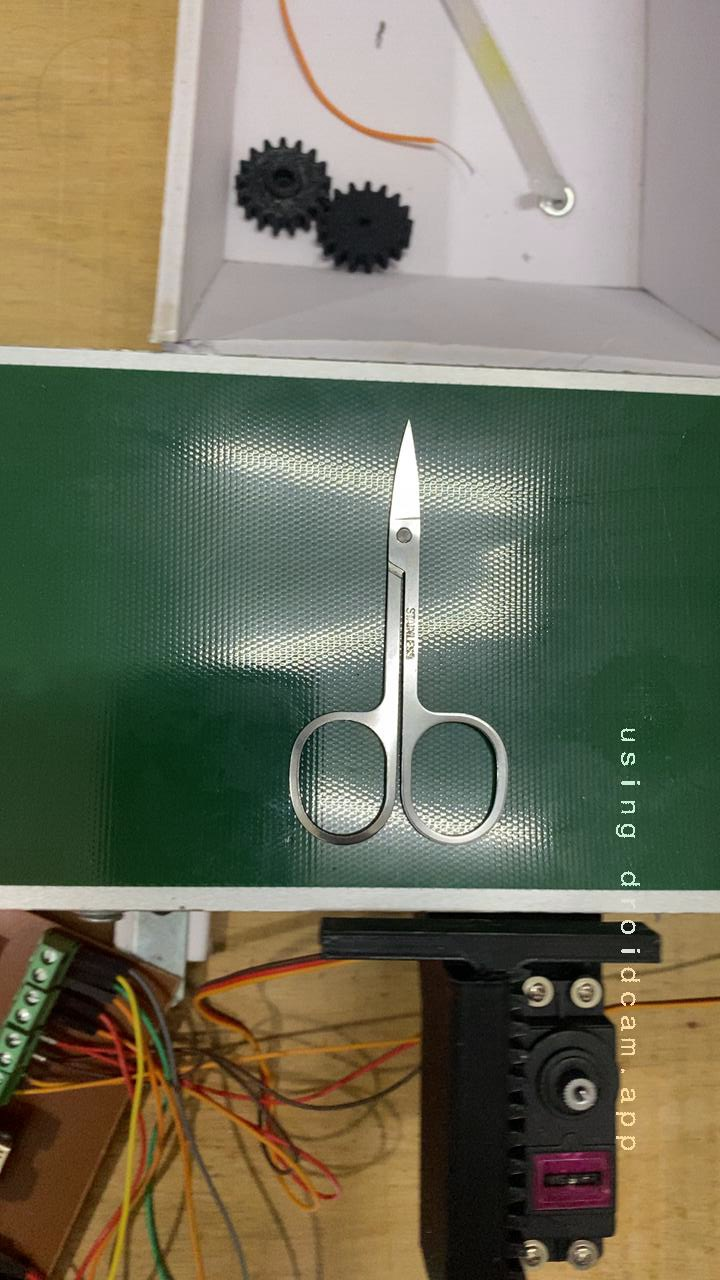scissor: (235, 410, 529, 872)
